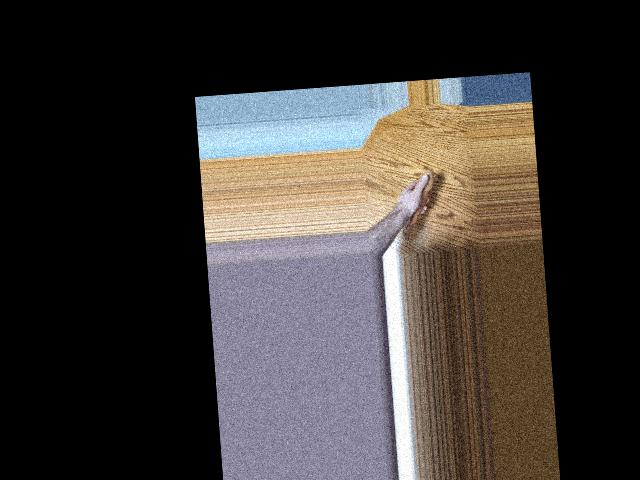sweet_potato: (394, 168, 440, 245)
